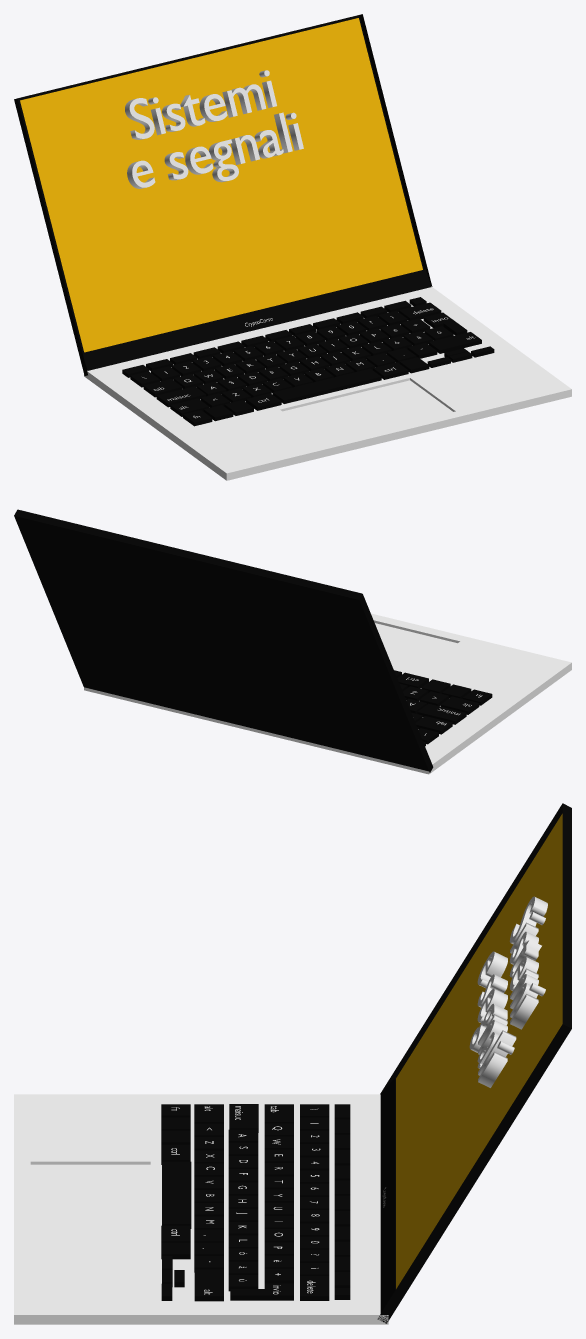
Rendered from sistemi.glb.
3 renders of one model, top to bottom at view 1: azimuth 30°, elevation 25°; view 2: azimuth 150°, elevation 25°; view 3: azimuth 270°, elevation 25°, orthographic. The views are drawn at different scales.
Visible parts, largest first — view 1: Cube.073, Cube, Cube.074, Cube.001, Text.001, Text, Cube.072, Cube.123; view 2: Cube.001, Cube, Cube.065, Cube.064, Cube.066, Cube.071; view 3: Cube, Cube.073, Cube.001, Text.001, Cube.074, Text, Cube.072, Cube.123, Cube.065, Cube.027.
Boxes of the visible parts, x1,y1,x2,y2 form: Cube.073: (20,18,422,352); Cube: (84,286,571,480); Cube.074: (82,269,431,370); Cube.001: (14,14,432,375); Text.001: (127,112,303,188); Text: (125,70,276,139); Cube.072: (272,368,381,403); Cube.123: (428,332,481,353); Cube.001: (14,509,433,772); Cube: (84,613,571,774); Cube.065: (417,703,466,724); Cube.064: (440,696,479,714); Cube.066: (415,716,452,734); Cube.071: (397,672,428,688); Cube: (14,1094,388,1324); Cube.073: (396,813,562,1288); Cube.001: (377,803,571,1323); Text.001: (469,951,516,1087); Cube.074: (380,1077,396,1313); Text: (509,896,547,1029); Cube.072: (162,1161,191,1228); Cube.123: (194,1269,223,1301); Cube.065: (229,1104,258,1132); Cube.027: (300,1276,329,1300).
Size of the model in its own units: 6.79 by 4.31 by 7.25.
